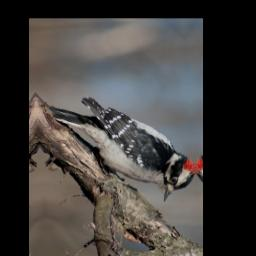Woodpecker: (45, 90, 197, 213)
